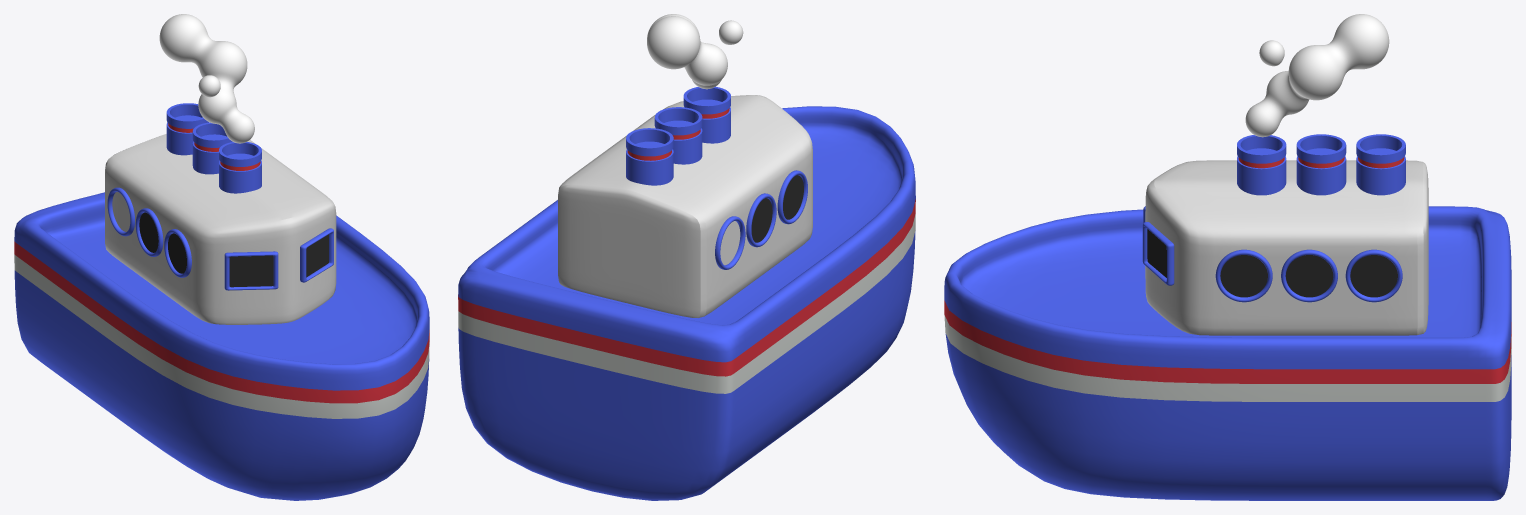
The model's file is ship_3d_icon.glb.
The picture shows the model from 3 angles, left to right: view 1: azimuth 30°, elevation 25°; view 2: azimuth 150°, elevation 25°; view 3: azimuth 270°, elevation 25°; orthographic projection. The views are drawn at different scales.
Parts seen in each view (by area): view 1: Cube_2, Cube.001_3, Mball.005_24, Cylinder.002_19, Plane.002_6, Plane.001_5, Plane_4, Circle.011_18, Circle.008_15, Circle.007_14, Circle.006_13, Circle.010_17; view 2: Cube_2, Cube.001_3, Cylinder.002_19, Mball.005_24, Circle.011_18, Circle.008_15, Circle.007_14, Circle.010_17, Circle.006_13; view 3: Cube_2, Cube.001_3, Cylinder.002_19, Mball.005_24, Circle.001_8, Circle.003_10, Circle.005_12, Plane_4, Circle_7, Circle.002_9, Circle.004_11, Plane.002_6.
Boxes of the visible parts, x1,y1,x2,y2 form: Cube_2: (14, 192, 429, 500); Cube.001_3: (105, 134, 336, 324); Mball.005_24: (159, 14, 254, 143); Cylinder.002_19: (166, 103, 261, 193); Plane.002_6: (229, 234, 328, 287); Plane.001_5: (224, 251, 278, 290); Plane_4: (300, 228, 333, 282); Circle.011_18: (139, 212, 158, 252); Circle.008_15: (107, 187, 134, 236); Circle.007_14: (168, 233, 186, 273); Circle.006_13: (164, 229, 191, 277); Circle.010_17: (135, 208, 163, 256); Cube_2: (458, 106, 915, 500); Cube.001_3: (558, 95, 812, 317); Cylinder.002_19: (626, 86, 730, 185); Mball.005_24: (647, 14, 743, 89); Circle.011_18: (751, 198, 772, 242); Circle.008_15: (715, 216, 745, 269); Circle.007_14: (783, 175, 803, 219); Circle.010_17: (746, 193, 776, 247); Circle.006_13: (777, 170, 807, 224); Cube_2: (944, 206, 1511, 500); Cube.001_3: (1145, 160, 1428, 335); Cylinder.002_19: (1237, 134, 1405, 195); Mball.005_24: (1245, 14, 1389, 137); Circle.001_8: (1220, 255, 1267, 297); Circle.003_10: (1350, 255, 1397, 297); Circle.005_12: (1285, 255, 1333, 297); Plane_4: (1142, 222, 1174, 285); Circle_7: (1215, 249, 1272, 302); Circle.002_9: (1345, 249, 1402, 302); Circle.004_11: (1281, 249, 1337, 302); Plane.002_6: (1147, 229, 1166, 277).
Bounding box in the file's own units: 2.86 × 4.29 × 4.94.
